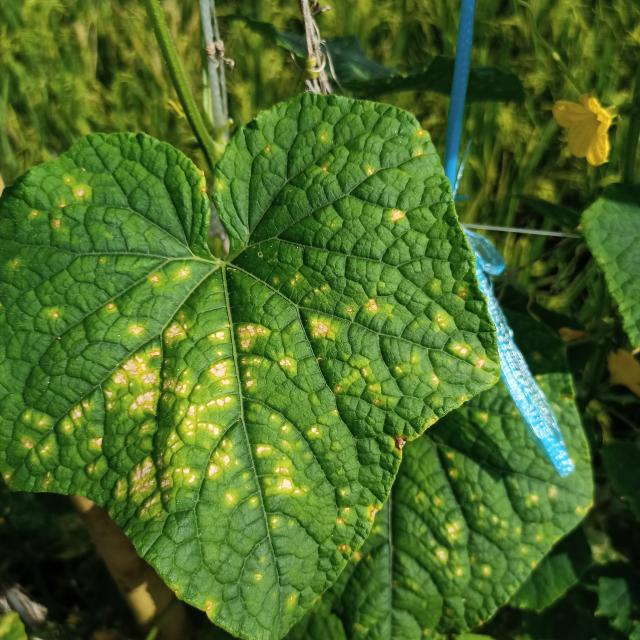disease_cucumber: (0, 145, 493, 591)
